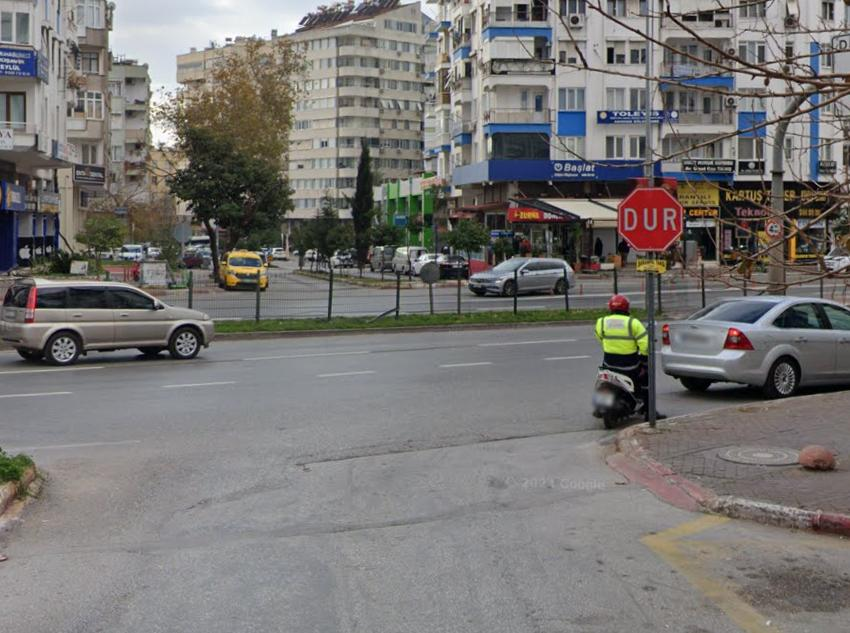stop: (618, 189, 685, 251)
